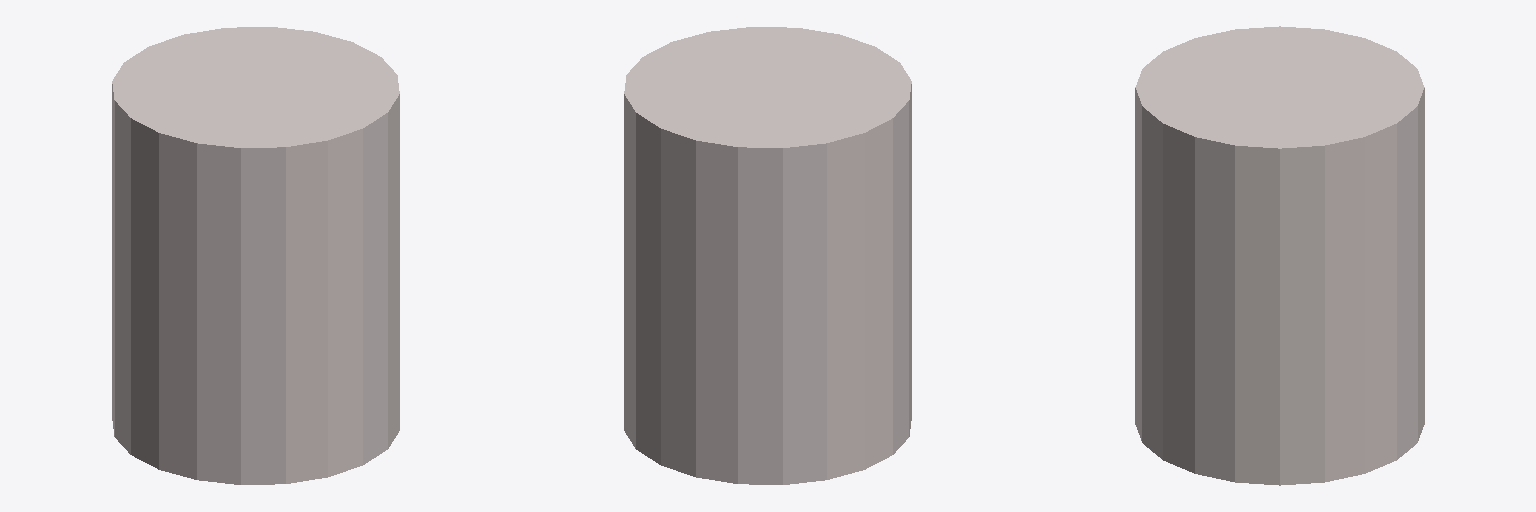
The picture shows the model from 3 angles: view 1: azimuth 30°, elevation 25°; view 2: azimuth 150°, elevation 25°; view 3: azimuth 270°, elevation 25°; orthographic projection.
Visible parts, largest first — view 1: tempMesh1:default1; view 2: tempMesh1:default1; view 3: tempMesh1:default1.
Boxes of the visible parts, <box> form: tempMesh1:default1: <box>112,27,399,484</box>; tempMesh1:default1: <box>624,27,911,484</box>; tempMesh1:default1: <box>1135,26,1424,485</box>.
Bounding box in the file's own units: 48.39 × 62.21 × 48.39.
Materials: 1 (1 with a texture image).